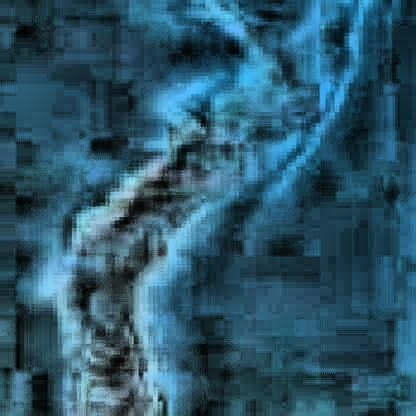sheen: (37, 63, 302, 416)
